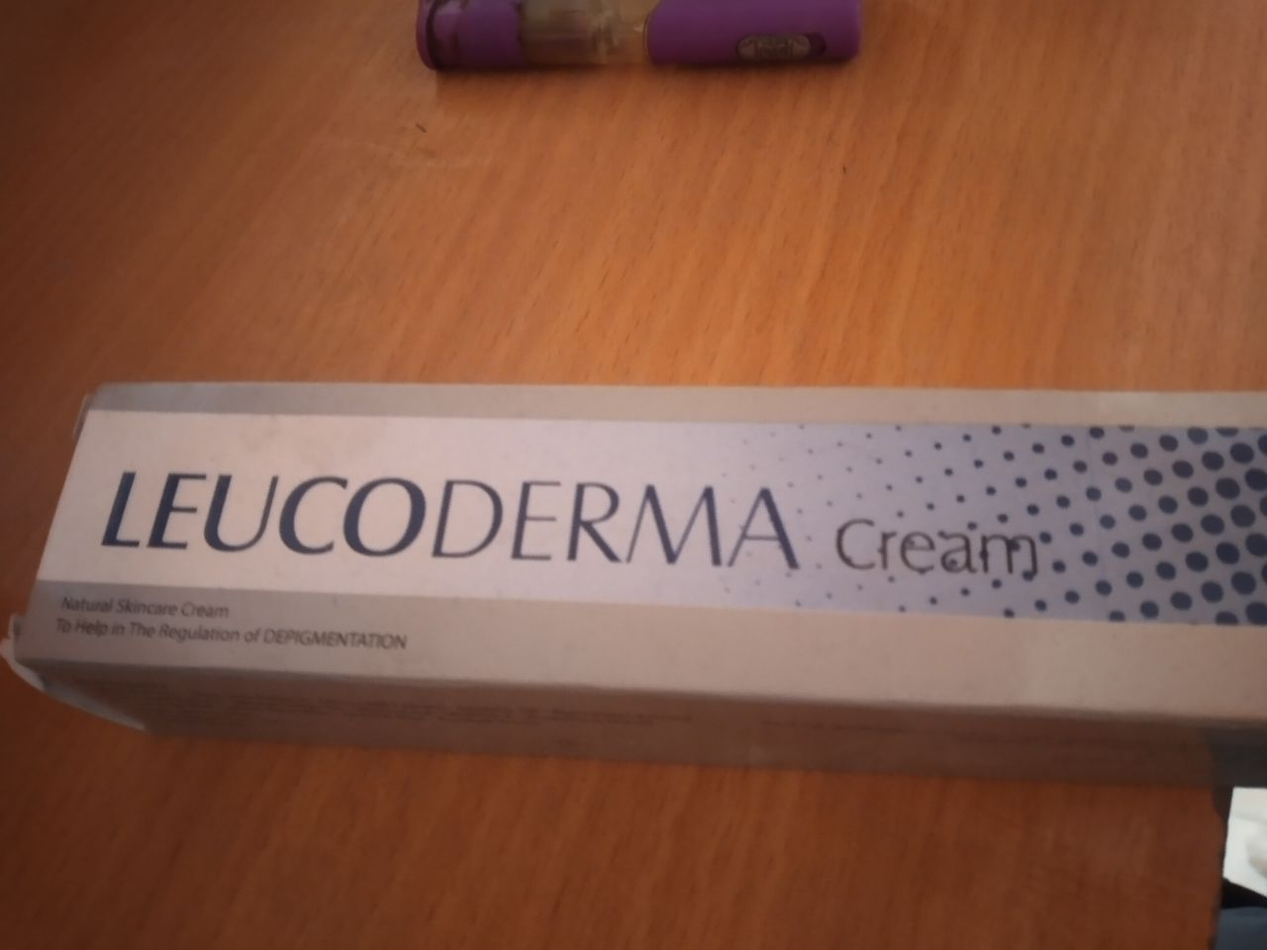Medicine: (35, 361, 1267, 742)
